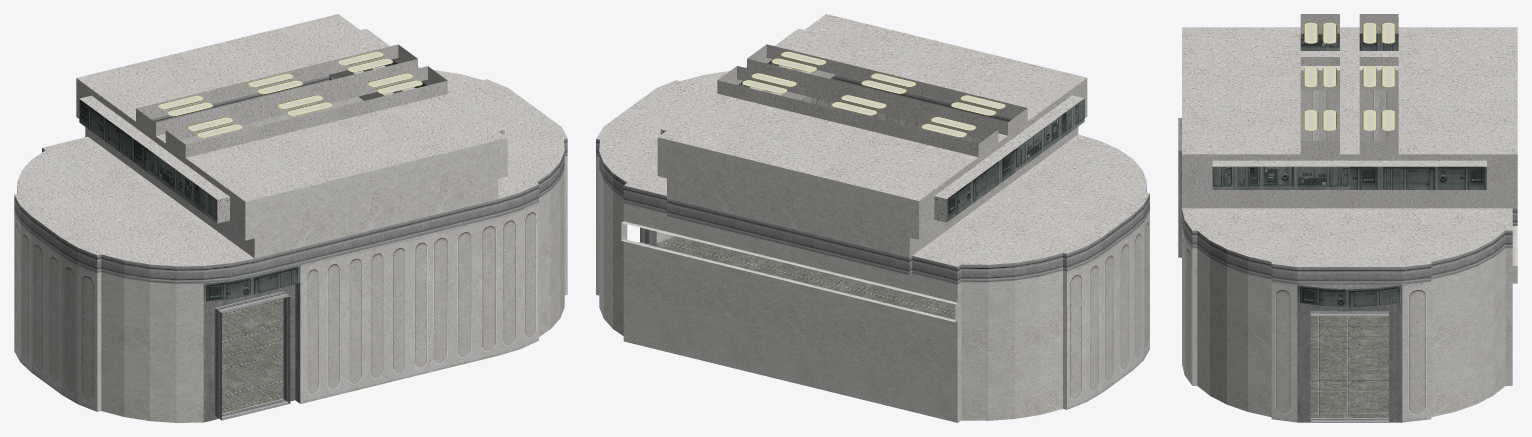
The model's file is ply_all_house_m_s01_fp1_r3_livingroom_mesh.fbx.
The picture shows the model from 3 angles, left to right: view 1: azimuth 30°, elevation 25°; view 2: azimuth 150°, elevation 25°; view 3: azimuth 270°, elevation 25°; orthographic projection.
Parts seen in each view (by area): view 1: mesh_node; view 2: mesh_node; view 3: mesh_node.
Boxes of the visible parts, bbox=[...] form: mesh_node: bbox=[14, 14, 567, 422]; mesh_node: bbox=[596, 14, 1149, 422]; mesh_node: bbox=[1178, 14, 1517, 422].
Bounding box in the file's own units: 14.59 × 6.4 × 8.66.
